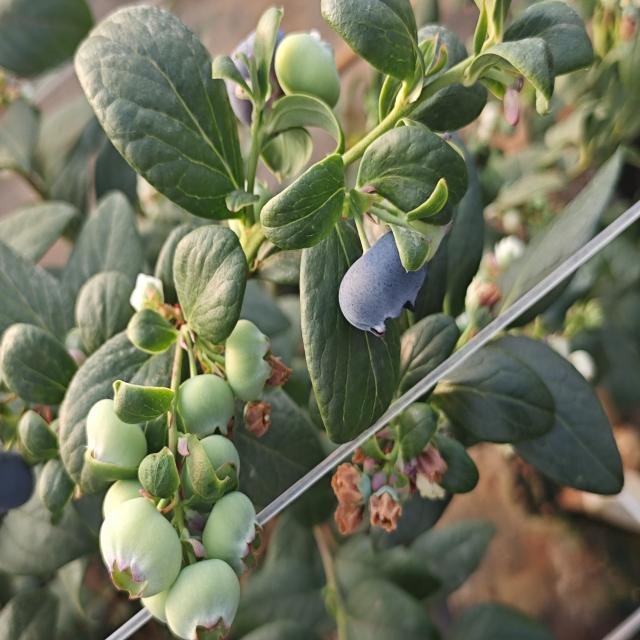ripe: (335, 226, 430, 340), (215, 19, 292, 132), (0, 441, 35, 521)
